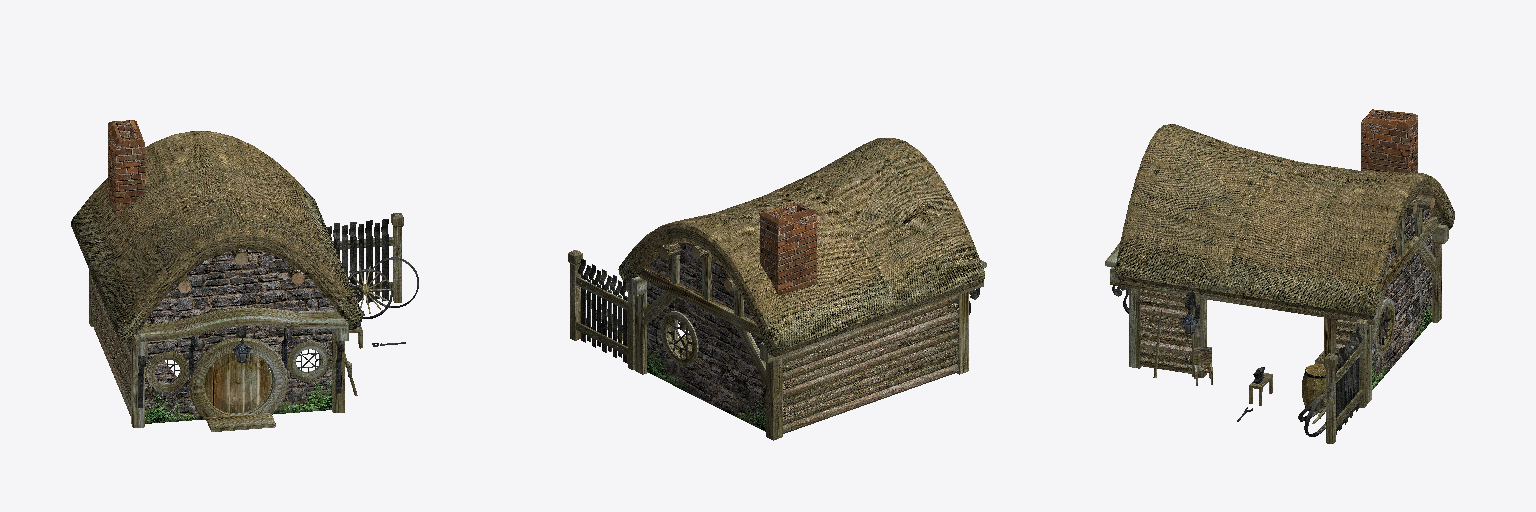
3 renders of one model, left to right at view 1: azimuth 30°, elevation 25°; view 2: azimuth 150°, elevation 25°; view 3: azimuth 270°, elevation 25°, orthographic.
Parts seen in each view (by area): view 1: Object_Blksmith_jpg; view 2: Object_Blksmith_jpg; view 3: Object_Blksmith_jpg.
Part boxes in pixels (x1,y1,x2,y2): Object_Blksmith_jpg: (71, 120, 418, 431); Object_Blksmith_jpg: (568, 138, 986, 440); Object_Blksmith_jpg: (1105, 109, 1454, 443).
Size of the model in its own units: 64.51 by 36.35 by 55.03.
Materials: 1 (1 with a texture image).